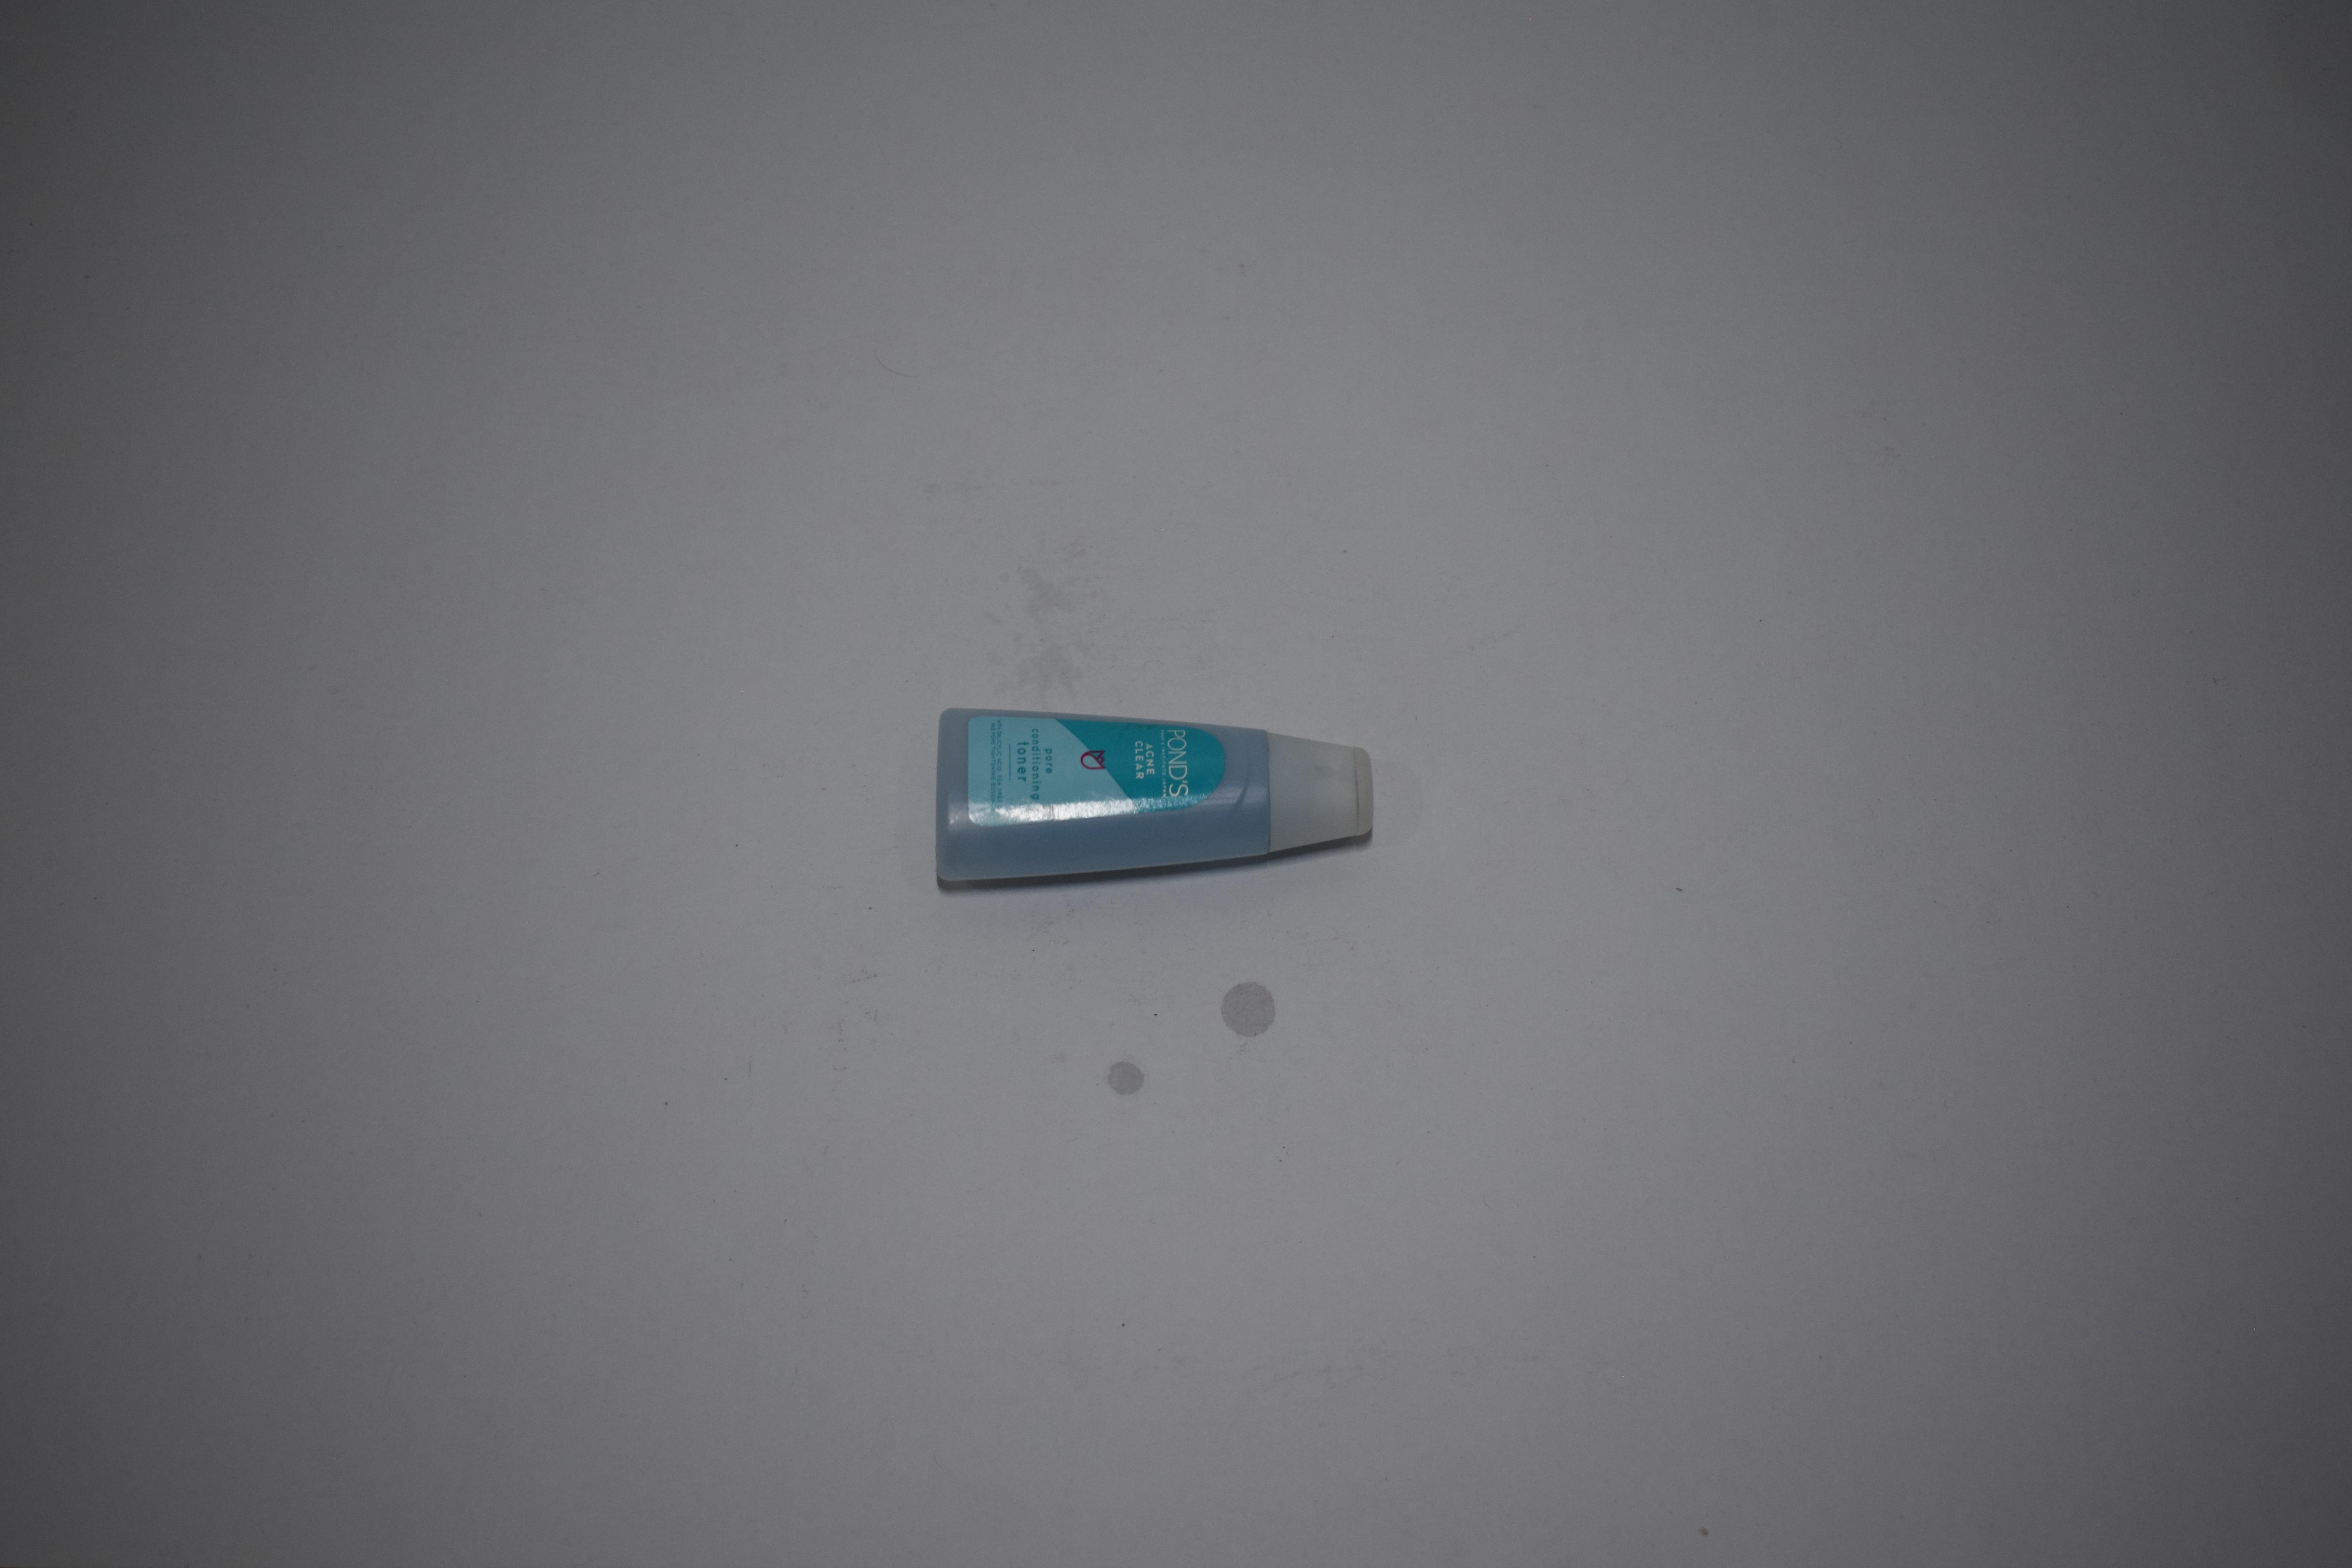bottle: (926, 0, 1379, 105)
